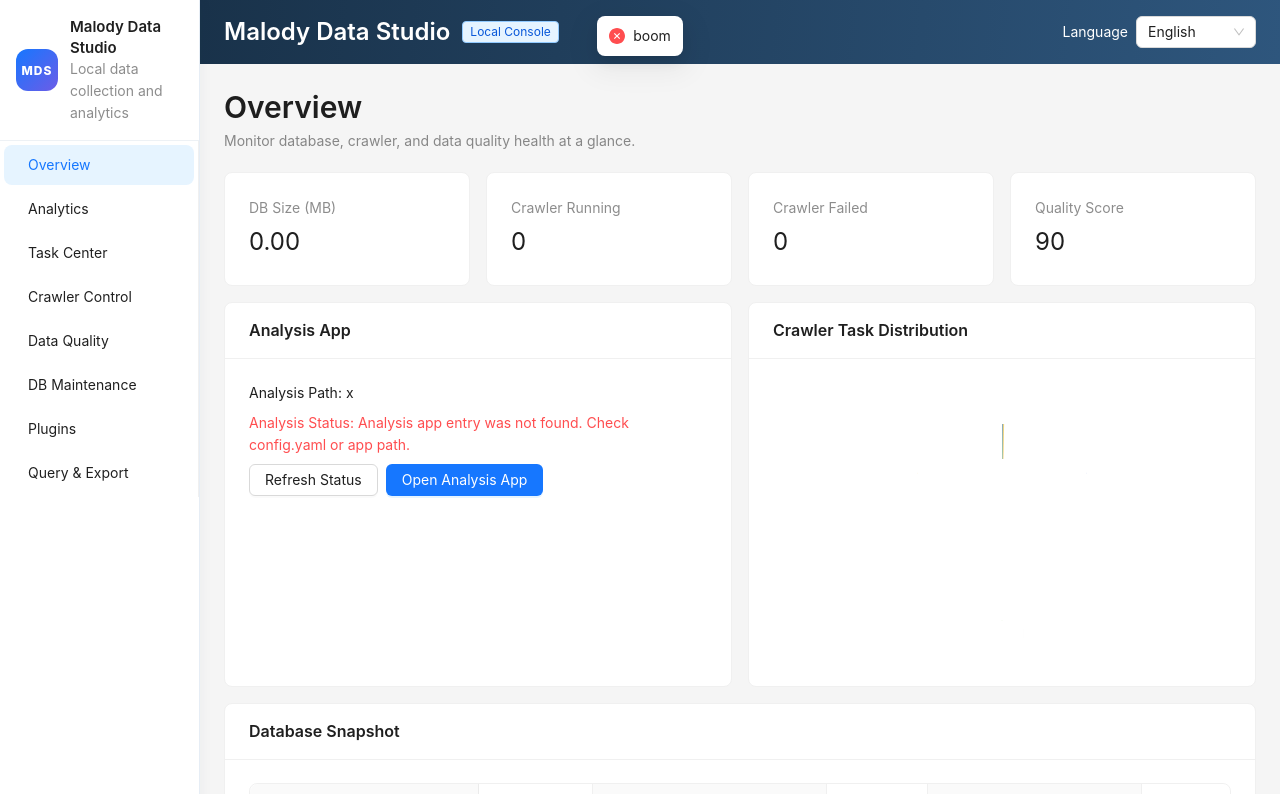
Test: App GUI flow › shows concise HTTP error with expandable technical details
Click the menu item "Plugins" at (52, 428), box [28, 420, 76, 437]
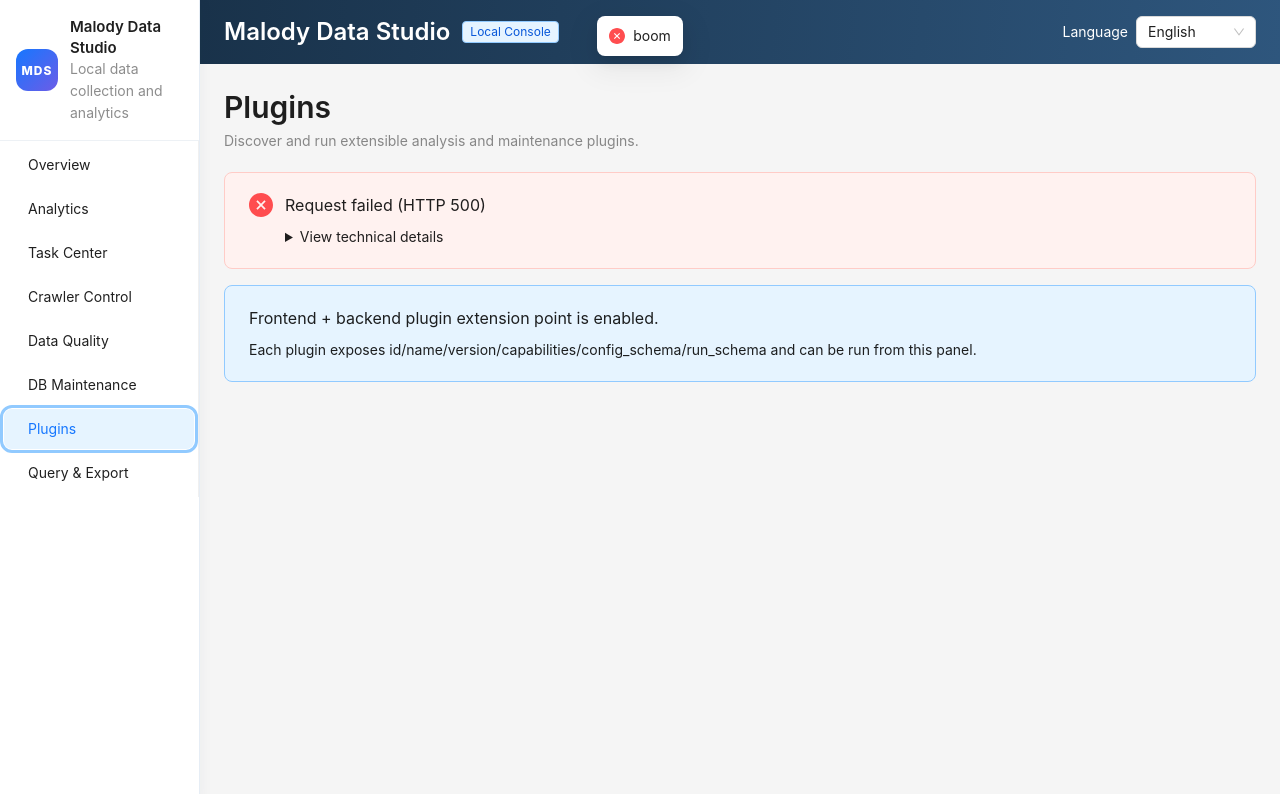
Now the text "Request failed (HTTP 500)" is shown, box [285, 195, 486, 215]
Now the heading "View technical details" is shown, box [285, 226, 444, 248]
